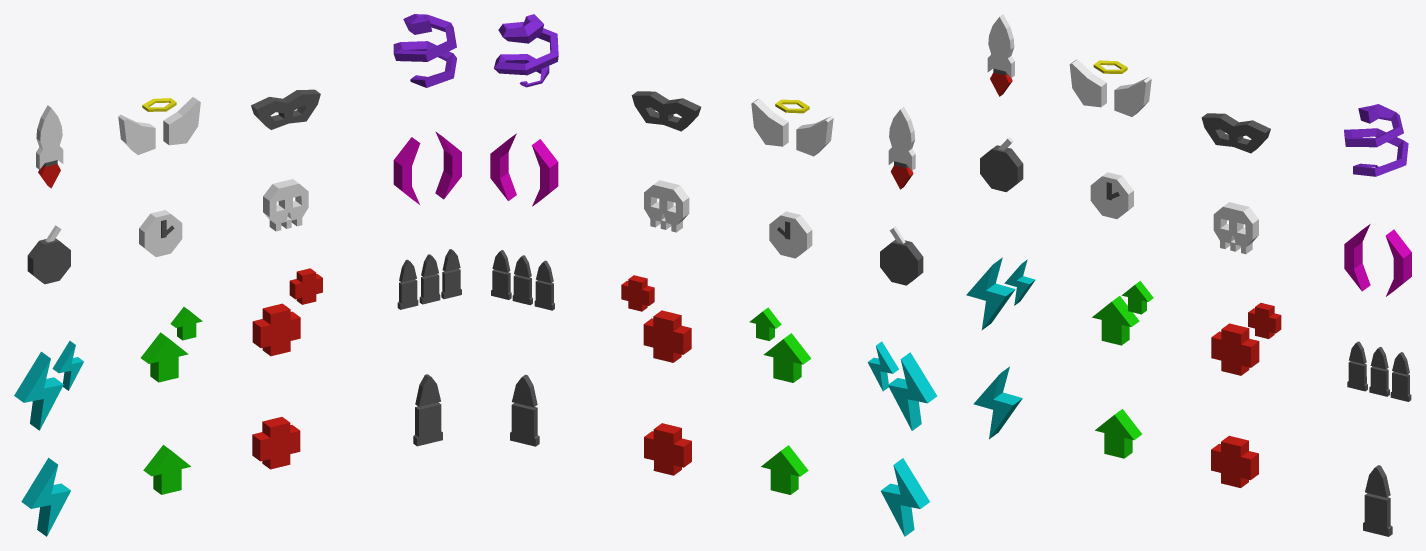
The model's file is Powerup Primitives.fbx.
3 views of the same model, side by side, from view 1: azimuth 30°, elevation 25°; view 2: azimuth 150°, elevation 25°; view 3: azimuth 330°, elevation 25° (orthographic).
Parts seen in each view (by area): view 1: HealthUp.001, EnergyUp2, WingIcon, StunnedIcon, AmmoIcon.001, ShieldIcon, SpeedUp.001, HealthUp, EnergyUp, SkullIcon, MaskIcon, RocketIcon (+4 smaller); view 2: HealthUp.001, WingIcon, EnergyUp2, StunnedIcon, AmmoIcon.001, ShieldIcon, SpeedUp.001, HealthUp, EnergyUp, SkullIcon, MaskIcon, RocketIcon (+4 smaller); view 3: HealthUp.001, WingIcon, AmmoIcon.001, StunnedIcon, ShieldIcon, SpeedUp.001, EnergyUp2, HealthUp, SkullIcon, MaskIcon, RocketIcon, AmmoIcon (+4 smaller).
Part boxes in pixels (x1,y1,x2,y2): HealthUp.001: (252, 268, 322, 356); EnergyUp2: (14, 341, 83, 430); WingIcon: (118, 97, 200, 154); StunnedIcon: (393, 14, 456, 87); AmmoIcon.001: (397, 249, 461, 309); ShieldIcon: (393, 131, 461, 204); SpeedUp.001: (141, 307, 202, 382); HealthUp: (252, 417, 300, 469); EnergyUp: (21, 457, 70, 536); SkullIcon: (263, 179, 308, 231); MaskIcon: (251, 89, 320, 129); RocketIcon: (36, 105, 63, 188); HealthUp.001: (621, 275, 691, 362); WingIcon: (751, 98, 833, 156); EnergyUp2: (867, 341, 937, 430); StunnedIcon: (494, 14, 558, 87); AmmoIcon.001: (491, 250, 554, 310); ShieldIcon: (490, 133, 558, 206); SpeedUp.001: (749, 307, 811, 382); HealthUp: (644, 423, 691, 475); EnergyUp: (881, 458, 929, 536); SkullIcon: (644, 180, 689, 232); MaskIcon: (631, 91, 701, 131); RocketIcon: (888, 107, 915, 189); HealthUp.001: (1211, 303, 1281, 375); WingIcon: (1069, 59, 1151, 116); AmmoIcon.001: (1347, 341, 1411, 401); StunnedIcon: (1344, 104, 1408, 176); ShieldIcon: (1344, 224, 1411, 296); SpeedUp.001: (1092, 281, 1153, 345); EnergyUp2: (966, 257, 1035, 330); HealthUp: (1211, 435, 1258, 487); SkullIcon: (1213, 202, 1258, 254); MaskIcon: (1201, 113, 1270, 153); RocketIcon: (987, 14, 1014, 96); AmmoIcon: (1363, 465, 1392, 536).
Bounding box in the file's own units: 7.14 × 6.61 × 0.9119.
